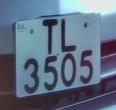0: (59, 50, 79, 91)
3: (20, 53, 42, 98)
5: (40, 54, 61, 94), (78, 48, 96, 87)
L: (59, 15, 80, 54)
T: (39, 15, 63, 56)
